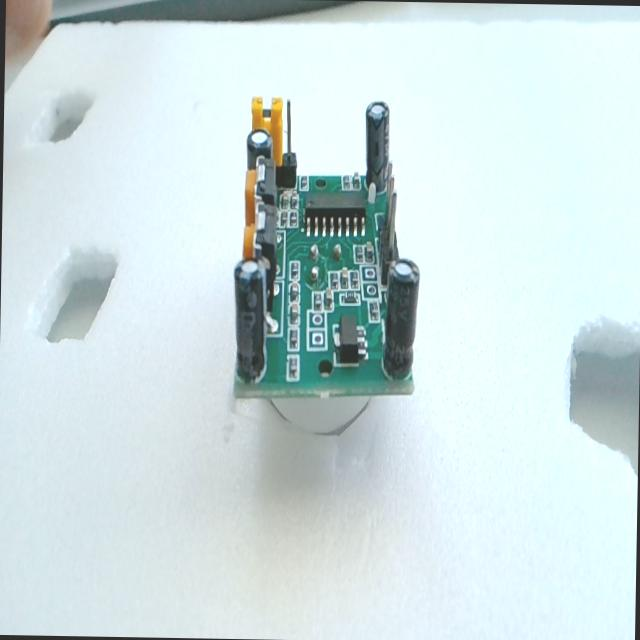Electrolytic capacitor: (382, 258, 420, 378), (232, 258, 268, 380), (364, 100, 391, 194), (245, 128, 272, 172)
IC: (302, 186, 368, 236)
pinheader: (368, 162, 407, 276)
